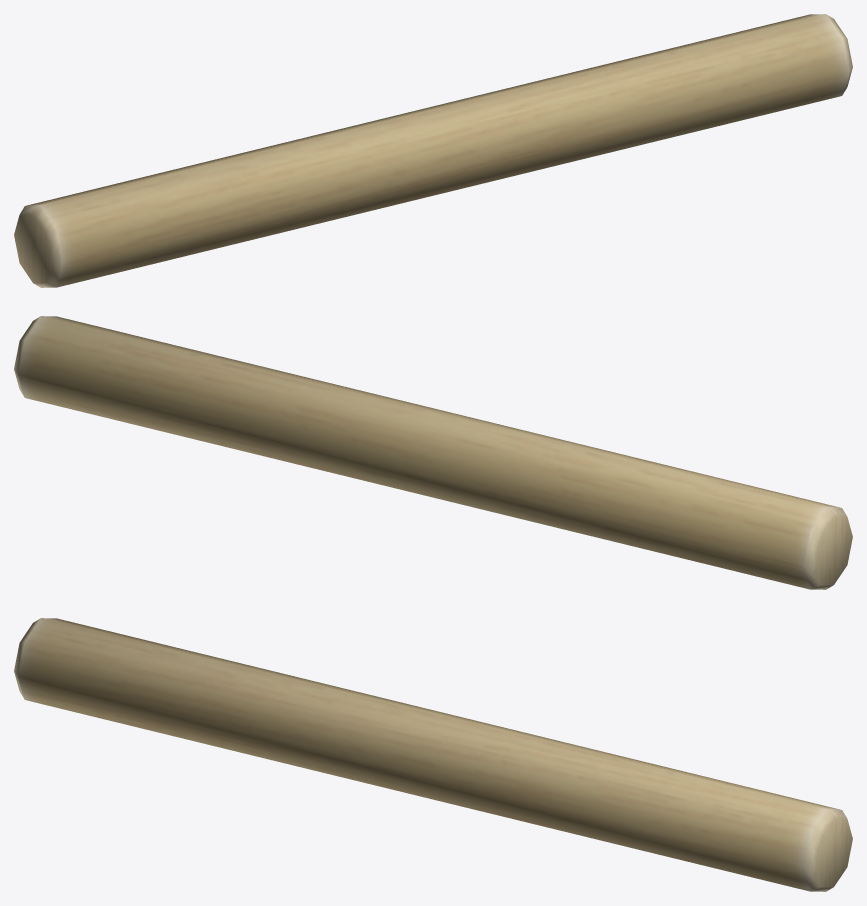
The model's file is KR_Rolling_pin_01_0_1.fbx.
3 renders of one model, top to bottom at view 1: azimuth 30°, elevation 25°; view 2: azimuth 150°, elevation 25°; view 3: azimuth 330°, elevation 25°, orthographic.
Visible parts, largest first — view 1: kr_rolling_pin_01_0_1; view 2: kr_rolling_pin_01_0_1; view 3: kr_rolling_pin_01_0_1.
Part boxes in pixels (bbox=[...]): kr_rolling_pin_01_0_1: bbox=[14, 14, 852, 287]; kr_rolling_pin_01_0_1: bbox=[14, 316, 852, 589]; kr_rolling_pin_01_0_1: bbox=[14, 618, 852, 891].
Size of the model in its own units: 35.14 by 3.44 by 3.44.
